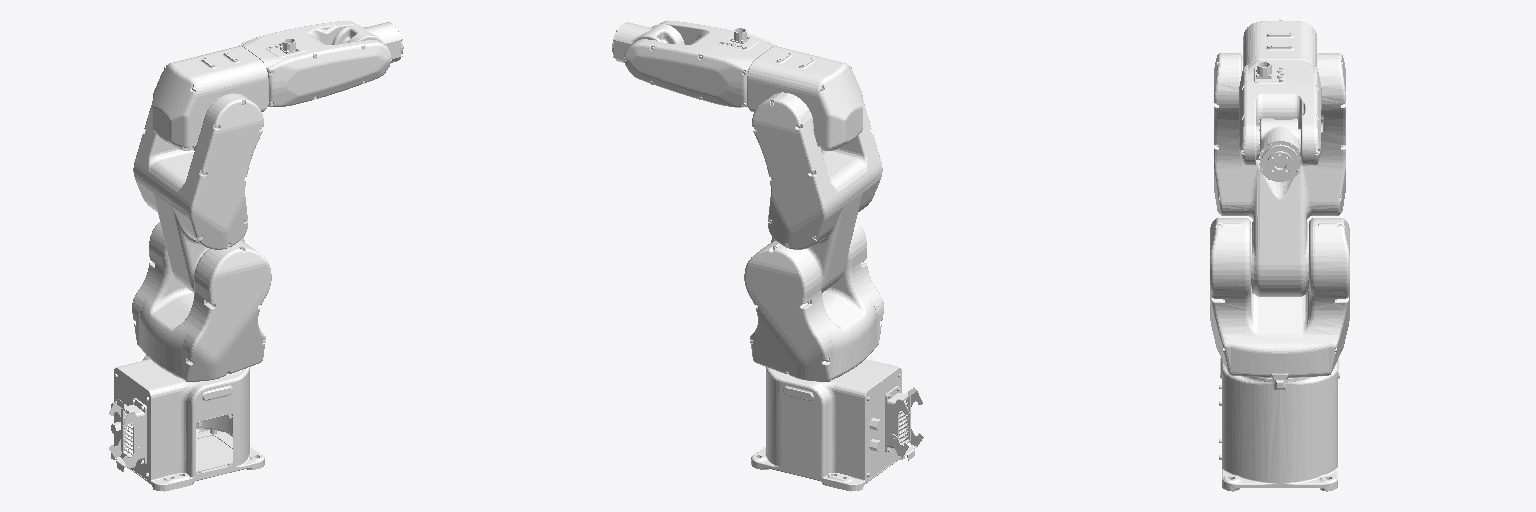
robot.urdf — effortrobot:
<?xml version="1.0" encoding="utf-8"?>
<!-- This URDF was automatically created by SolidWorks to URDF Exporter! Originally created by [author] ([email redacted]) 
     Commit Version: 1.5.1-0-g916b5db  Build Version: 1.5.7152.31018
     For more information, please see http://wiki.ros.org/sw_urdf_exporter -->
<robot
  name="effortrobot">
  <link
    name="base_link">
    <inertial>
      <origin
        xyz="-0.020139 -0.00029083 0.08761"
        rpy="0 0 0" />
      <mass
        value="6.2633" />
      <inertia
        ixx="0.031742"
        ixy="-0.00025869"
        ixz="-0.0014605"
        iyy="0.040679"
        iyz="1.2511E-06"
        izz="0.035184" />
    </inertial>
    <visual>
      <origin
        xyz="0 0 0"
        rpy="0 0 0" />
      <geometry>
        <mesh
          filename="package://effortrobot/meshes/base_link.STL" />
      </geometry>
      <material
        name="">
        <color
          rgba="1 1 1 1" />
      </material>
    </visual>
    <collision>
      <origin
        xyz="0 0 0"
        rpy="0 0 0" />
      <geometry>
        <mesh
          filename="package://effortrobot/meshes/base_link.STL" />
      </geometry>
    </collision>
  </link>
  <link
    name="link1">
    <inertial>
      <origin
        xyz="0.013985 0.097968 -0.00035209"
        rpy="0 0 0" />
      <mass
        value="2.4535" />
      <inertia
        ixx="0.026746"
        ixy="0.0013345"
        ixz="3.9E-05"
        iyy="0.019626"
        iyz="-5.0659E-06"
        izz="0.01608" />
    </inertial>
    <visual>
      <origin
        xyz="0 0 0"
        rpy="0 0 0" />
      <geometry>
        <mesh
          filename="package://effortrobot/meshes/link1.STL" />
      </geometry>
      <material
        name="">
        <color
          rgba="1 1 1 1" />
      </material>
    </visual>
    <collision>
      <origin
        xyz="0 0 0"
        rpy="0 0 0" />
      <geometry>
        <mesh
          filename="package://effortrobot/meshes/link1.STL" />
      </geometry>
    </collision>
  </link>
  <joint
    name="joint1"
    type="revolute">
    <origin
      xyz="0.025 0 0.1865"
      rpy="1.5708 0 3.1416" />
    <parent
      link="base_link" />
    <child
      link="link1" />
    <axis
      xyz="0 0 -1" />
    <limit
      lower="-3.14"
      upper="3.14"
      effort="0"
      velocity="0" />
  </joint>
  <link
    name="link2">
    <inertial>
      <origin
        xyz="0.021883 0.1341 0.00022363"
        rpy="0 0 0" />
      <mass
        value="5.0459" />
      <inertia
        ixx="0.064667"
        ixy="-0.0013746"
        ixz="2.9716E-05"
        iyy="0.023288"
        iyz="-1.4596E-05"
        izz="0.053178" />
    </inertial>
    <visual>
      <origin
        xyz="0 0 0"
        rpy="0 0 0" />
      <geometry>
        <mesh
          filename="package://effortrobot/meshes/link2.STL" />
      </geometry>
      <material
        name="">
        <color
          rgba="1 1 1 1" />
      </material>
    </visual>
    <collision>
      <origin
        xyz="0 0 0"
        rpy="0 0 0" />
      <geometry>
        <mesh
          filename="package://effortrobot/meshes/link2.STL" />
      </geometry>
    </collision>
  </link>
  <joint
    name="joint2"
    type="revolute">
    <origin
      xyz="0 0.172 0"
      rpy="0 0 0" />
    <parent
      link="link1" />
    <child
      link="link2" />
    <axis
      xyz="0 0 -1" />
    <limit
      lower="-3.14"
      upper="3.14"
      effort="0"
      velocity="0" />
  </joint>
  <link
    name="link3">
    <inertial>
      <origin
        xyz="0.013477 0.014234 0.0011895"
        rpy="0 0 0" />
      <mass
        value="2.1368" />
      <inertia
        ixx="0.0051632"
        ixy="0.00051201"
        ixz="3.036E-05"
        iyy="0.0062051"
        iyz="1.8355E-05"
        izz="0.006532" />
    </inertial>
    <visual>
      <origin
        xyz="0 0 0"
        rpy="0 0 0" />
      <geometry>
        <mesh
          filename="package://effortrobot/meshes/link3.STL" />
      </geometry>
      <material
        name="">
        <color
          rgba="1 1 1 1" />
      </material>
    </visual>
    <collision>
      <origin
        xyz="0 0 0"
        rpy="0 0 0" />
      <geometry>
        <mesh
          filename="package://effortrobot/meshes/link3.STL" />
      </geometry>
    </collision>
  </link>
  <joint
    name="joint3"
    type="revolute">
    <origin
      xyz="0 0.295 0"
      rpy="0 0 0" />
    <parent
      link="link2" />
    <child
      link="link3" />
    <axis
      xyz="0 0 -1" />
    <limit
      lower="0"
      upper="3.14"
      effort="0"
      velocity="0" />
  </joint>
  <link
    name="link4">
    <inertial>
      <origin
        xyz="-0.11577 0.0015716 -0.0018394"
        rpy="0 0 0" />
      <mass
        value="0.9978" />
      <inertia
        ixx="0.0025951"
        ixy="-1.6888E-05"
        ixz="-1.4384E-05"
        iyy="0.0069048"
        iyz="1.6198E-05"
        izz="0.0056561" />
    </inertial>
    <visual>
      <origin
        xyz="0 0 0"
        rpy="0 0 0" />
      <geometry>
        <mesh
          filename="package://effortrobot/meshes/link4.STL" />
      </geometry>
      <material
        name="">
        <color
          rgba="1 1 1 1" />
      </material>
    </visual>
    <collision>
      <origin
        xyz="0 0 0"
        rpy="0 0 0" />
      <geometry>
        <mesh
          filename="package://effortrobot/meshes/link4.STL" />
      </geometry>
    </collision>
  </link>
  <joint
    name="joint4"
    type="revolute">
    <origin
      xyz="-0.075801 0.037406 0.0005"
      rpy="0 0 0" />
    <parent
      link="link3" />
    <child
      link="link4" />
    <axis
      xyz="0.99999 -0.0053555 0" />
    <limit
      lower="-3.14"
      upper="3.14"
      effort="0"
      velocity="0" />
  </joint>
  <link
    name="link5">
    <inertial>
      <origin
        xyz="-0.023027 0.00013031 -0.0020434"
        rpy="0 0 0" />
      <mass
        value="0.36404" />
      <inertia
        ixx="0.00023315"
        ixy="7.616E-07"
        ixz="2.5096E-05"
        iyy="0.00040368"
        iyz="-2.4878E-07"
        izz="0.00042927" />
    </inertial>
    <visual>
      <origin
        xyz="0 0 0"
        rpy="0 0 0" />
      <geometry>
        <mesh
          filename="package://effortrobot/meshes/link5.STL" />
      </geometry>
      <material
        name="">
        <color
          rgba="1 1 1 1" />
      </material>
    </visual>
    <collision>
      <origin
        xyz="0 0 0"
        rpy="0 0 0" />
      <geometry>
        <mesh
          filename="package://effortrobot/meshes/link5.STL" />
      </geometry>
    </collision>
  </link>
  <joint
    name="joint5"
    type="revolute">
    <origin
      xyz="-0.2185 0.0011724 -0.0005"
      rpy="0 0 0" />
    <parent
      link="link4" />
    <child
      link="link5" />
    <axis
      xyz="2.4265E-05 0.0045308 -0.99999" />
    <limit
      lower="-3.14"
      upper="3.14"
      effort="0"
      velocity="0" />
  </joint>
  <link
    name="link6">
    <inertial>
      <origin
        xyz="0.002248 -0.00037082 0.00049838"
        rpy="0 0 0" />
      <mass
        value="0.0039034" />
      <inertia
        ixx="9.7517E-07"
        ixy="-2.516E-09"
        ixz="5.4388E-13"
        iyy="5.054E-07"
        iyz="1.0155E-10"
        izz="4.8297E-07" />
    </inertial>
    <visual>
      <origin
        xyz="0 0 0"
        rpy="0 0 0" />
      <geometry>
        <mesh
          filename="package://effortrobot/meshes/link6.STL" />
      </geometry>
      <material
        name="">
        <color
          rgba="1 1 1 1" />
      </material>
    </visual>
    <collision>
      <origin
        xyz="0 0 0"
        rpy="0 0 0" />
      <geometry>
        <mesh
          filename="package://effortrobot/meshes/link6.STL" />
      </geometry>
    </collision>
  </link>
  <joint
    name="joint6"
    type="revolute">
    <origin
      xyz="-0.078499 0.0004204 0"
      rpy="0 0 0" />
    <parent
      link="link5" />
    <child
      link="link6" />
    <axis
      xyz="-0.99999 0.0053555 0" />
    <limit
      lower="-3.14"
      upper="3.14"
      effort="0"
      velocity="0" />
  </joint>
</robot>

--- Render facts (derived) ---
The picture shows the robot from 3 angles, left to right: view 1: azimuth 30°, elevation 25°; view 2: azimuth 150°, elevation 25°; view 3: azimuth 270°, elevation 25°; orthographic projection.
Model effortrobot with 7 links and 6 joints (6 revolute), rooted at base_link, posed all joints at 0.
Links seen in each view (by area): view 1: base_link, link1, link2, link4, link3, link5; view 2: base_link, link1, link2, link4, link3, link5; view 3: link1, link2, base_link, link4, link3, link5.
Boxes of the visible links, x1=… form: base_link: x1=109, y1=355, x2=264, y2=491; link1: x1=132, y1=222, x2=271, y2=381; link2: x1=133, y1=93, x2=263, y2=292; link4: x1=239, y1=20, x2=391, y2=106; link3: x1=152, y1=46, x2=268, y2=150; link5: x1=332, y1=22, x2=403, y2=62; base_link: x1=751, y1=355, x2=923, y2=491; link1: x1=744, y1=222, x2=883, y2=381; link2: x1=752, y1=92, x2=882, y2=292; link4: x1=623, y1=20, x2=776, y2=107; link3: x1=747, y1=46, x2=862, y2=150; link5: x1=612, y1=22, x2=684, y2=62; link1: x1=1210, y1=218, x2=1349, y2=379; link2: x1=1214, y1=53, x2=1345, y2=296; base_link: x1=1219, y1=358, x2=1339, y2=491; link4: x1=1239, y1=60, x2=1321, y2=165; link3: x1=1243, y1=20, x2=1316, y2=67; link5: x1=1259, y1=118, x2=1299, y2=181.
Bounding box of the posed robot: 0.5774 × 0.216 × 0.7645 m (x, y, z).
Meshes: 7 distinct files referenced, 7 mesh visuals loaded (7 binary STL).